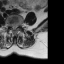CCS_stenosis: (13, 24, 15, 32)
LFS_severe_stenosis: (17, 23, 19, 29)
LLS_normal: (15, 25, 17, 30)
RFS_severe_stenosis: (9, 23, 12, 29)
RLS_normal: (11, 25, 13, 30)
